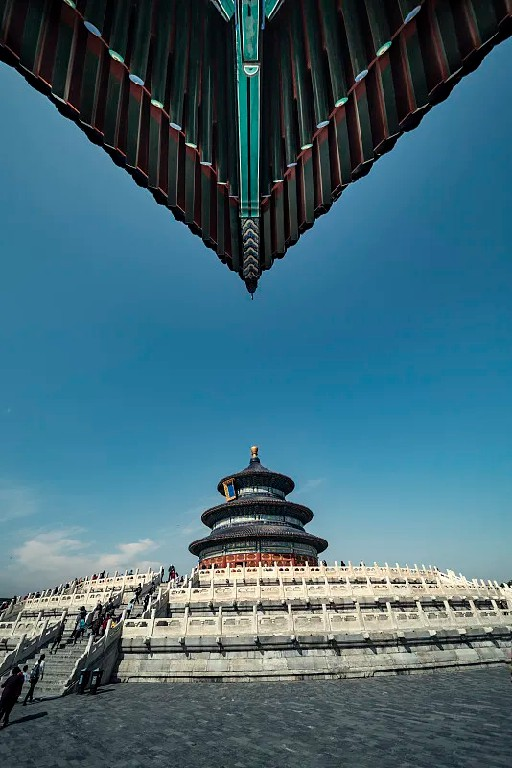Heaven: (186, 445, 329, 569)
